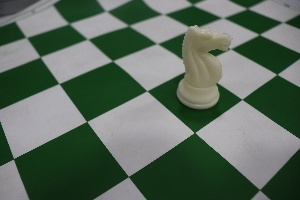white_horse: (173, 15, 238, 118)
